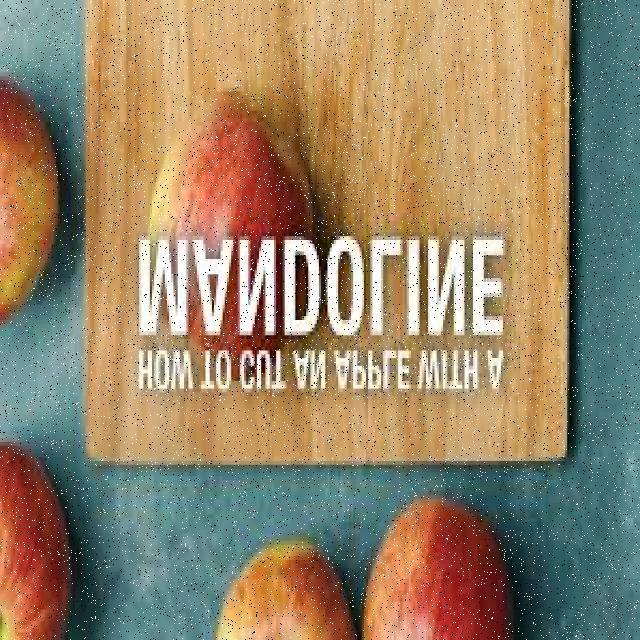Apple: (148, 96, 312, 371), (361, 502, 515, 640), (0, 54, 56, 320), (216, 541, 360, 640), (0, 450, 68, 638)
